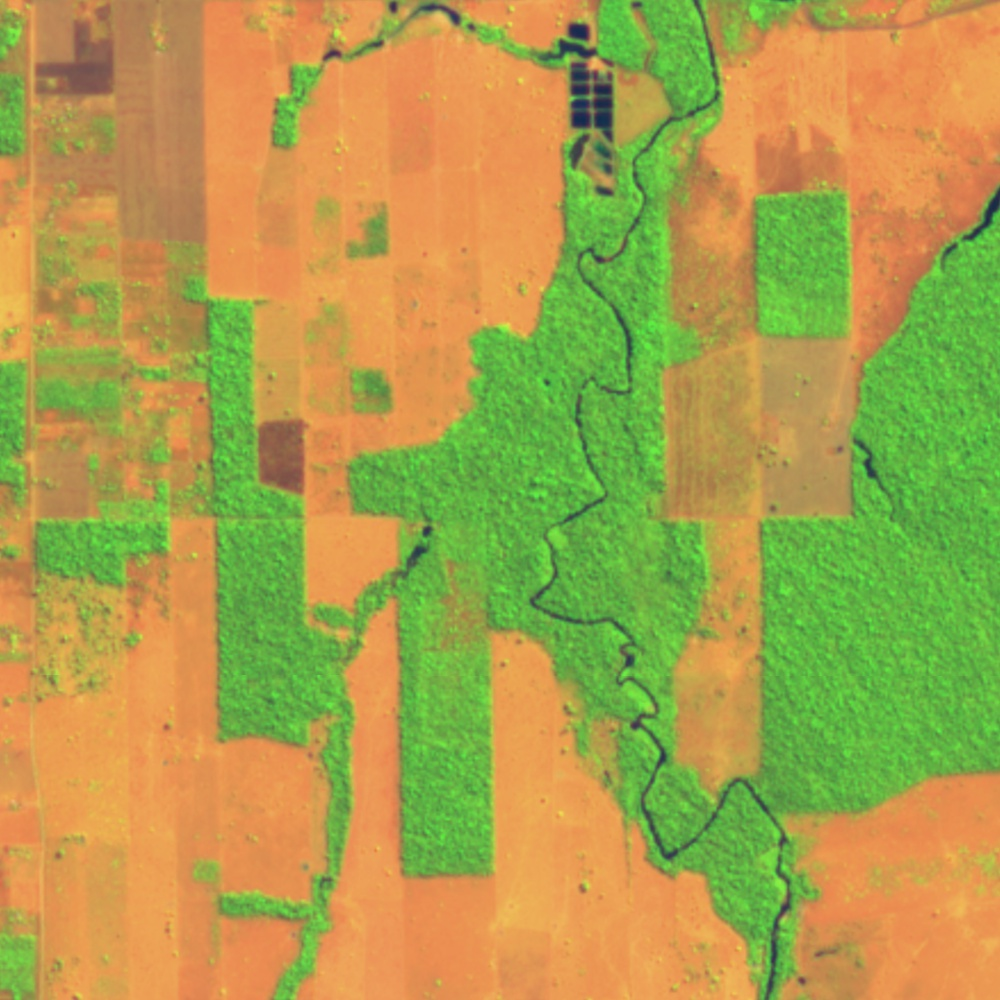illegal: (541, 18, 625, 200), (320, 1, 479, 66), (937, 188, 1000, 271), (852, 431, 897, 506), (398, 518, 444, 586)
